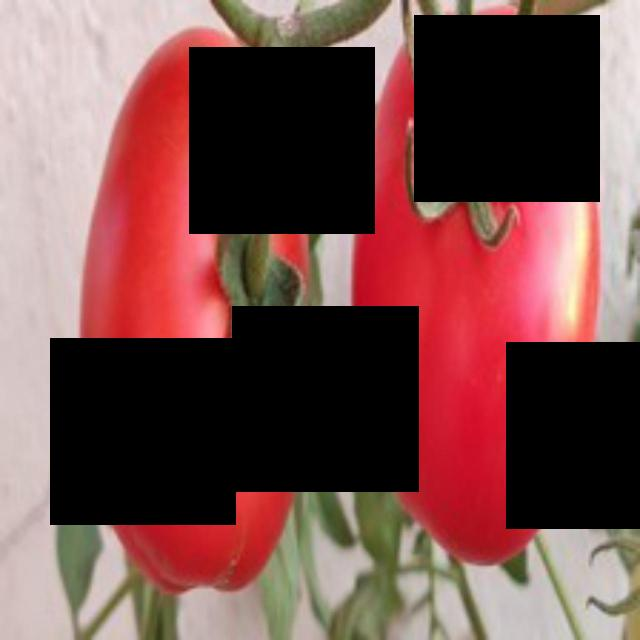tomato: (76, 28, 315, 597), (356, 18, 602, 563)
